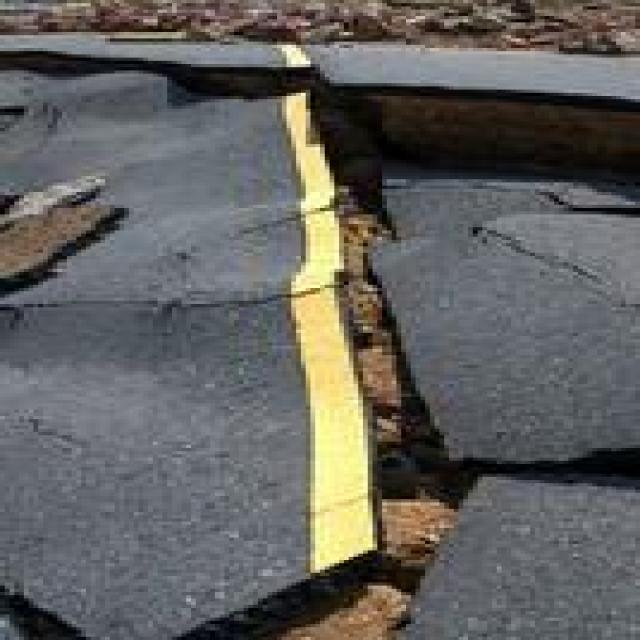road collapse: (33, 0, 640, 640)
